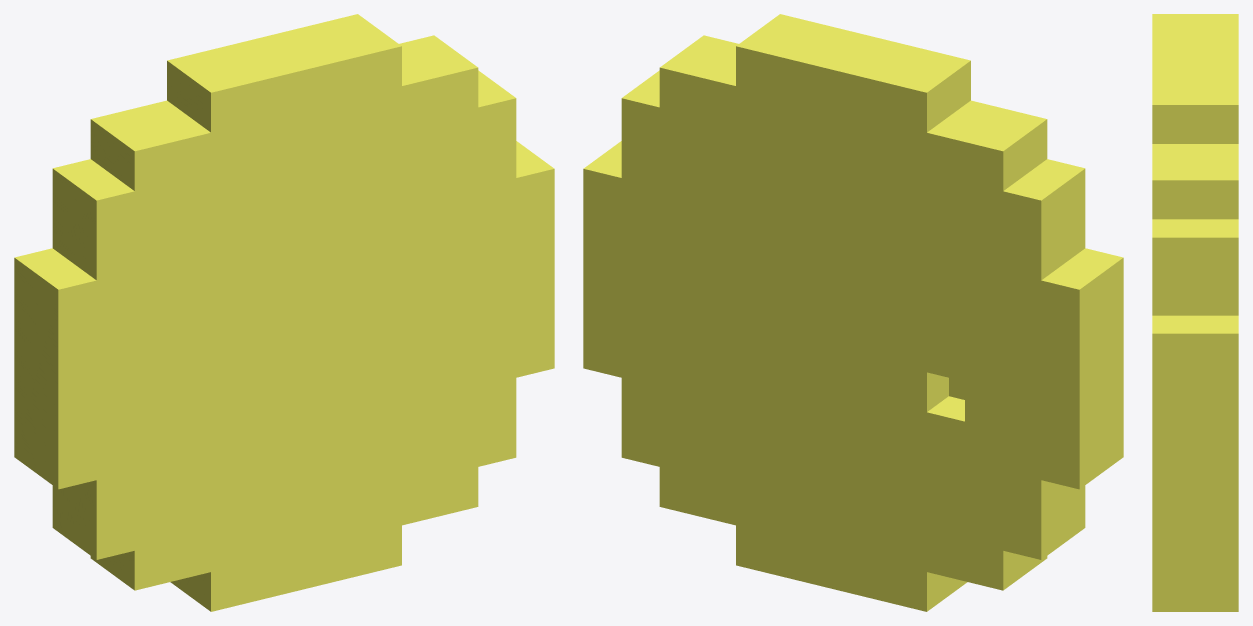
The model's file is pacmanc.fbx.
The picture shows the model from 3 angles, left to right: view 1: azimuth 30°, elevation 25°; view 2: azimuth 150°, elevation 25°; view 3: azimuth 270°, elevation 25°; orthographic projection. The views are drawn at different scales.
Visible parts, largest first — view 1: pacmanc; view 2: pacmanc; view 3: pacmanc.
Boxes of the visible parts, x1,y1,x2,y2 form: pacmanc: (14,14,554,611); pacmanc: (583,14,1123,611); pacmanc: (1152,14,1238,611).
Size of the model in its own units: 130 by 130 by 20.
